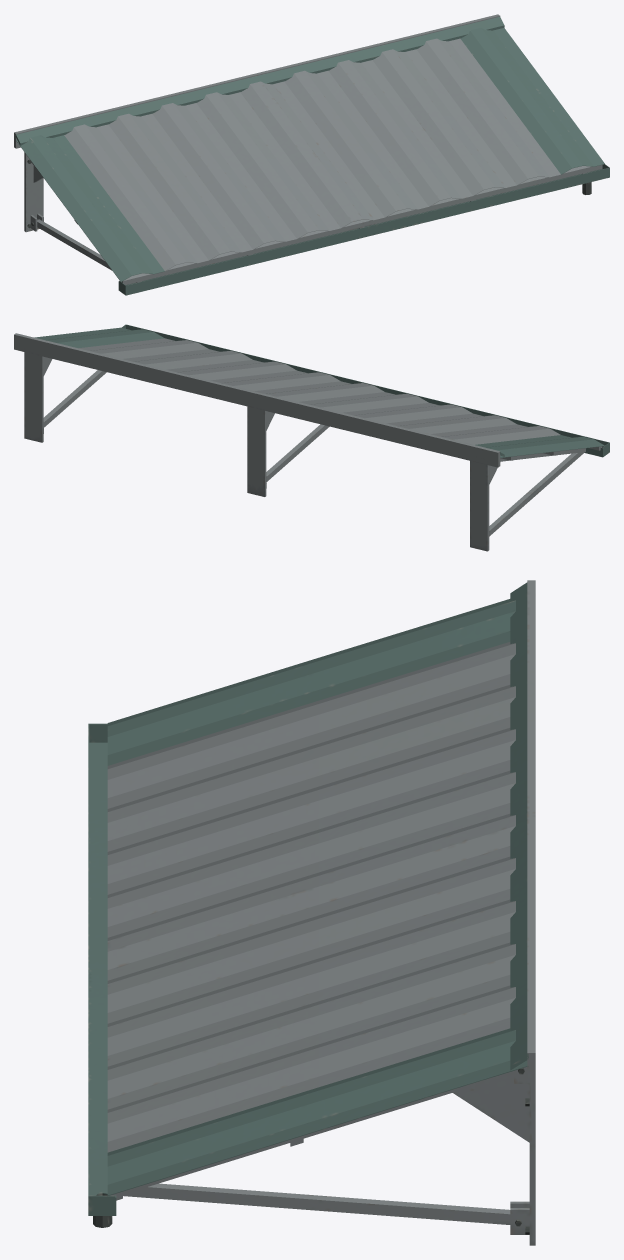
Rendered from storefront_awning_metal.glb.
3 renders of one model, top to bottom at view 1: azimuth 30°, elevation 25°; view 2: azimuth 150°, elevation 25°; view 3: azimuth 270°, elevation 25°, orthographic. The views are drawn at different scales.
Parts seen in each view (by area): view 1: StorefrontAwningMetal; view 2: StorefrontAwningMetal; view 3: StorefrontAwningMetal.
Boxes of the visible parts, <box> form: StorefrontAwningMetal: <box>14,14,609,295</box>; StorefrontAwningMetal: <box>14,324,609,551</box>; StorefrontAwningMetal: <box>88,580,535,1245</box>.
Bounding box in the file's own units: 3 × 0.6 × 1.2.
1 material, 1 textured.
